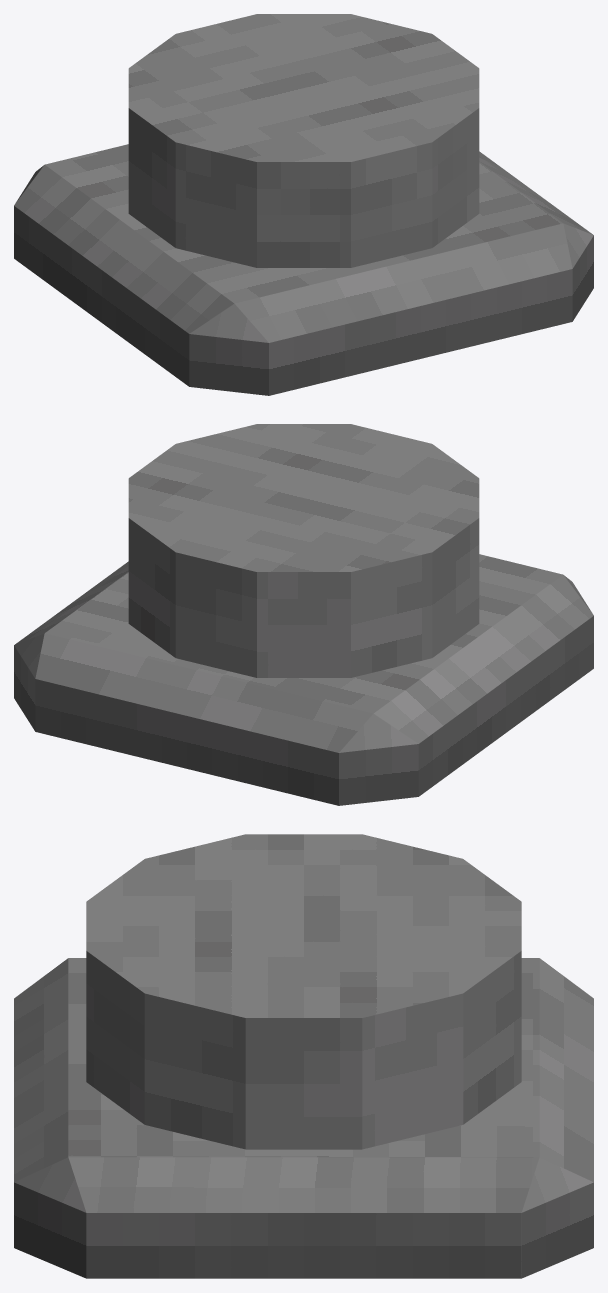
File: jernova2.obj
3 renders of one model, top to bottom at view 1: azimuth 30°, elevation 25°; view 2: azimuth 150°, elevation 25°; view 3: azimuth 270°, elevation 25°, orthographic. The views are drawn at different scales.
Parts seen in each view (by area): view 1: 2; view 2: 2; view 3: 2.
Part boxes in pixels (box(x1,y1,x2,y2)): 2: box(14, 14, 593, 395); 2: box(14, 424, 593, 805); 2: box(14, 834, 593, 1278).
Bounding box in the file's own units: 1 × 0.4375 × 1.
